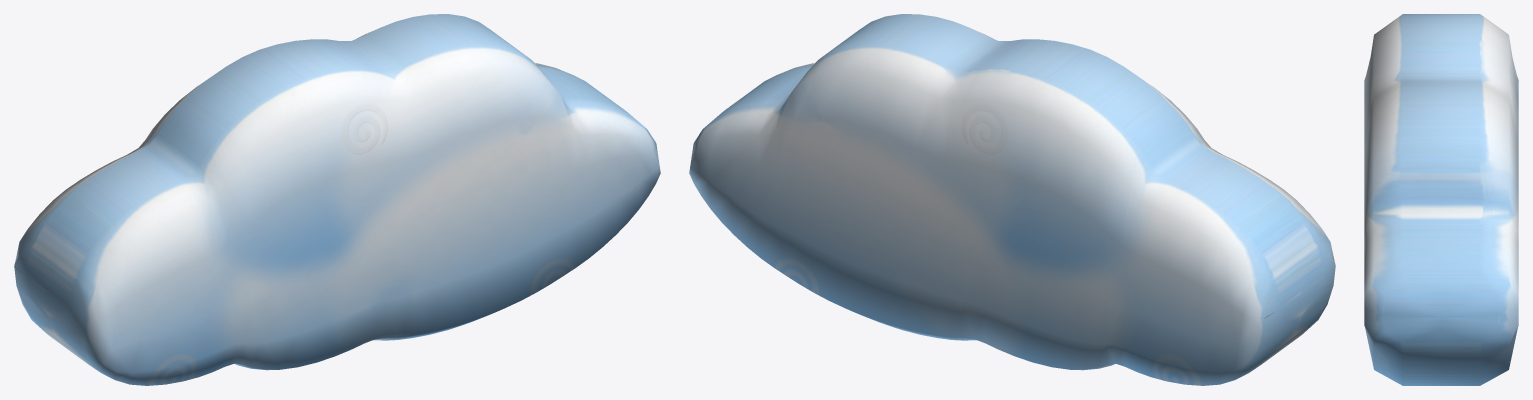
File: Cloud.fbx
The picture shows the model from 3 angles, left to right: view 1: azimuth 30°, elevation 25°; view 2: azimuth 150°, elevation 25°; view 3: azimuth 270°, elevation 25°; orthographic projection. The views are drawn at different scales.
Parts seen in each view (by area): view 1: Cube; view 2: Cube; view 3: Cube.
Boxes of the visible parts, bbox=[...] form: Cube: bbox=[14, 14, 660, 385]; Cube: bbox=[689, 14, 1335, 385]; Cube: bbox=[1364, 14, 1518, 385].
Size of the model in its own units: 681 by 323 by 166.
